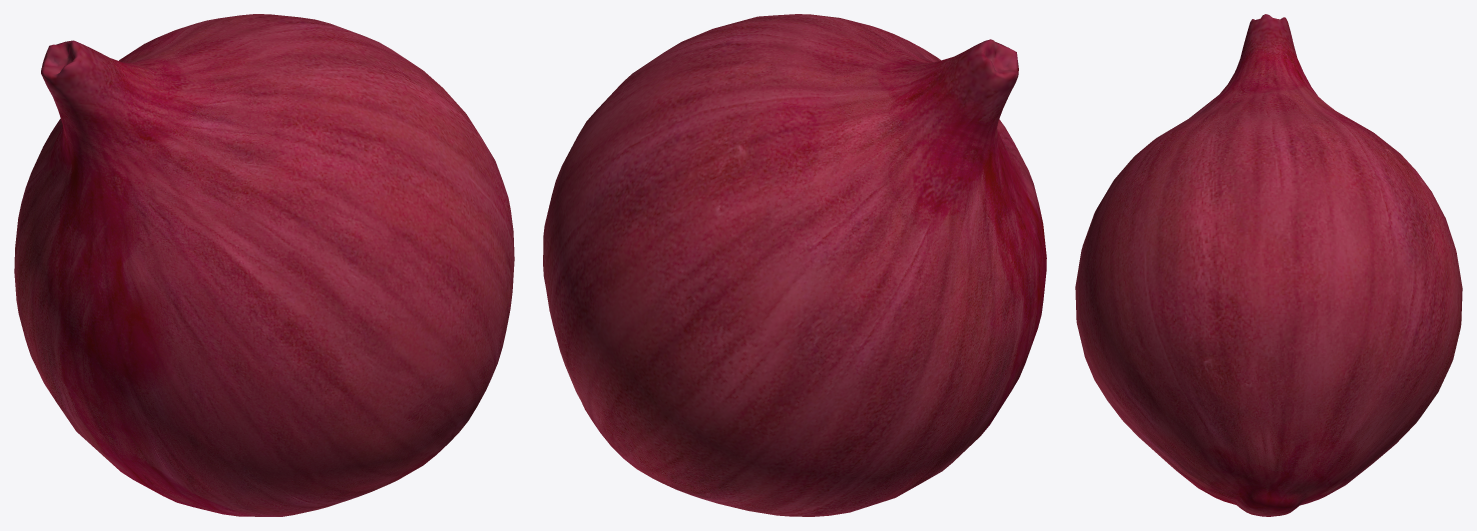
Rendered from StockOnion_Visual.fbx.
3 renders of one model, left to right at view 1: azimuth 30°, elevation 25°; view 2: azimuth 150°, elevation 25°; view 3: azimuth 270°, elevation 25°, orthographic. The views are drawn at different scales.
Visible parts, largest first — view 1: StockOnion; view 2: StockOnion; view 3: StockOnion.
Part boxes in pixels (bbox=[...]): StockOnion: bbox=[14, 14, 514, 516]; StockOnion: bbox=[543, 14, 1046, 516]; StockOnion: bbox=[1075, 14, 1462, 516].
Size of the model in its own units: 5.05 by 5.53 by 5.01.
Materials: 1 (1 with a texture image).
